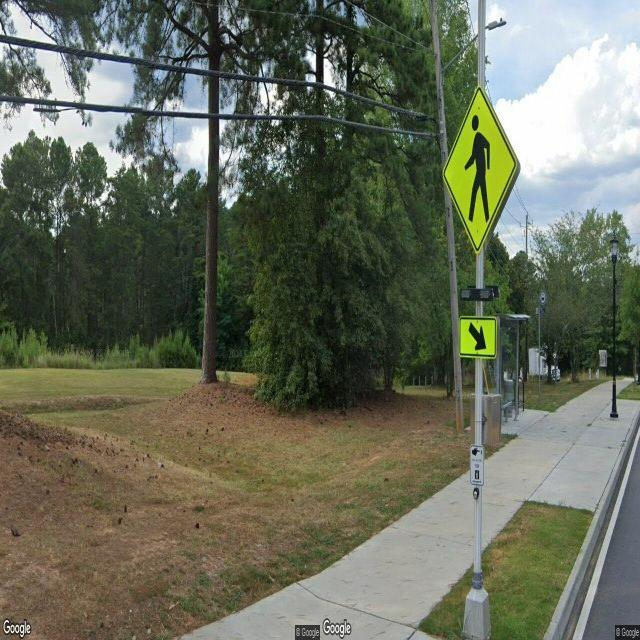seating: (502, 401, 514, 424)
shelter: (493, 314, 532, 425)
trash_can: (504, 380, 514, 401)
